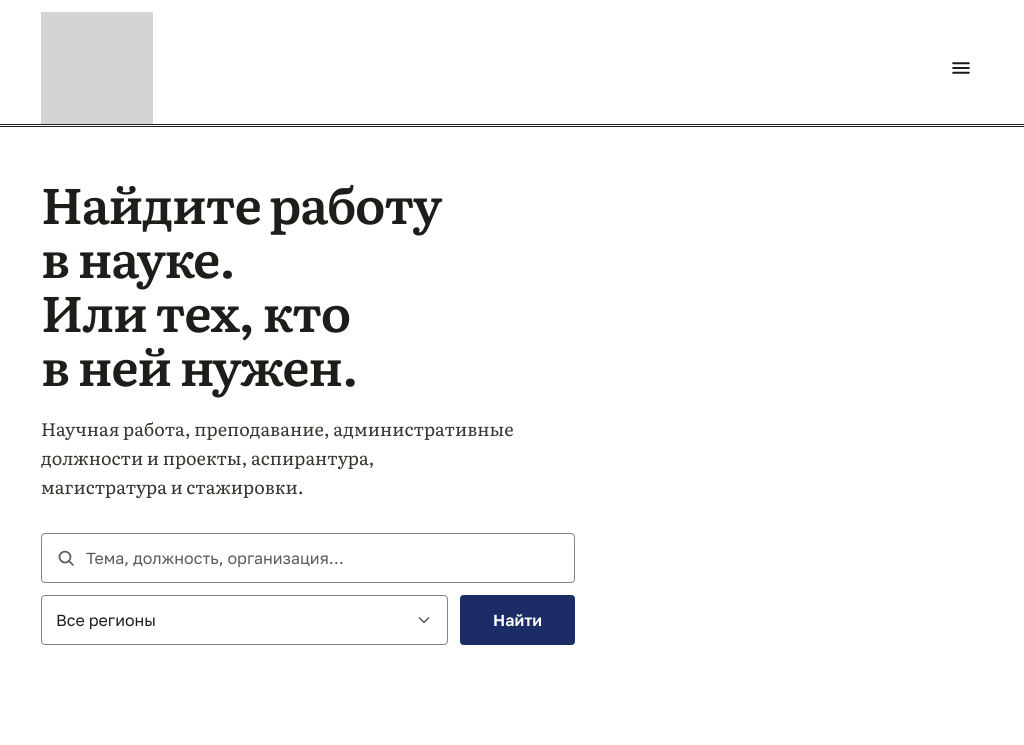
Test case: header while nobody is signed in › shows the same two buttons in the mobile menu
Click the button named "Открыть меню".
click(961, 68)  # box 939,46 -> 983,90
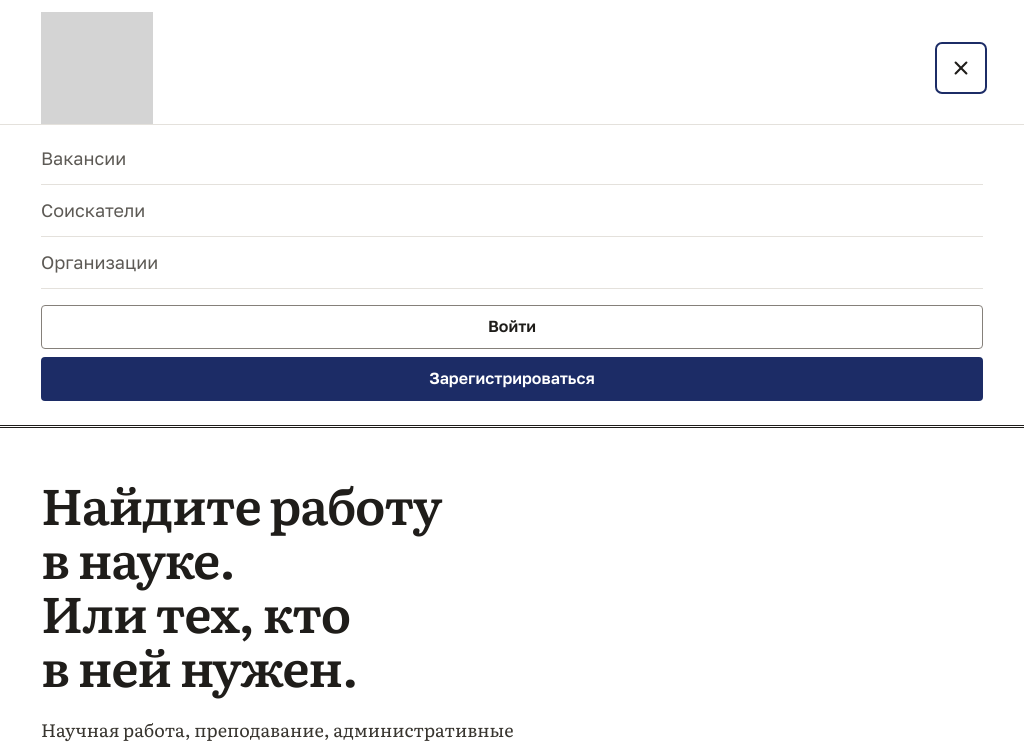
Expected: the link "Войти" is shown, 41,305 -> 983,349
Expected: the link "Зарегистрироваться" is shown, 41,357 -> 983,401
